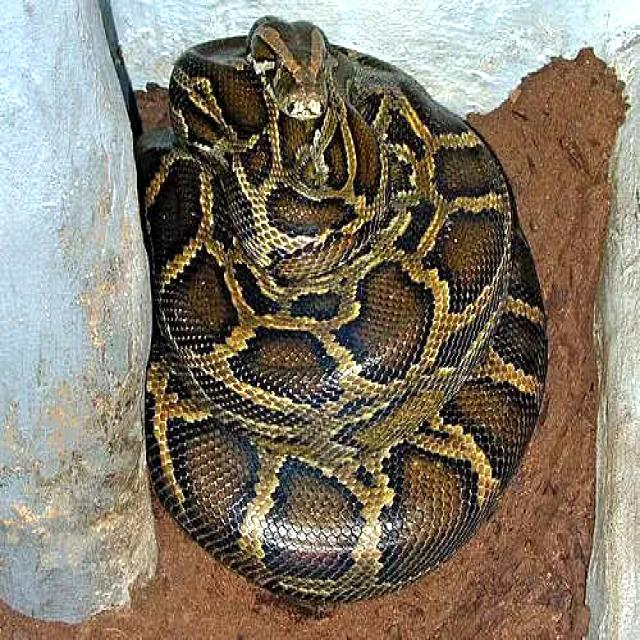Python bivittatus: (139, 17, 546, 601)
snake: (139, 17, 546, 601)
